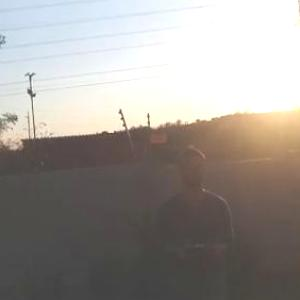follow: (152, 138, 238, 299)
